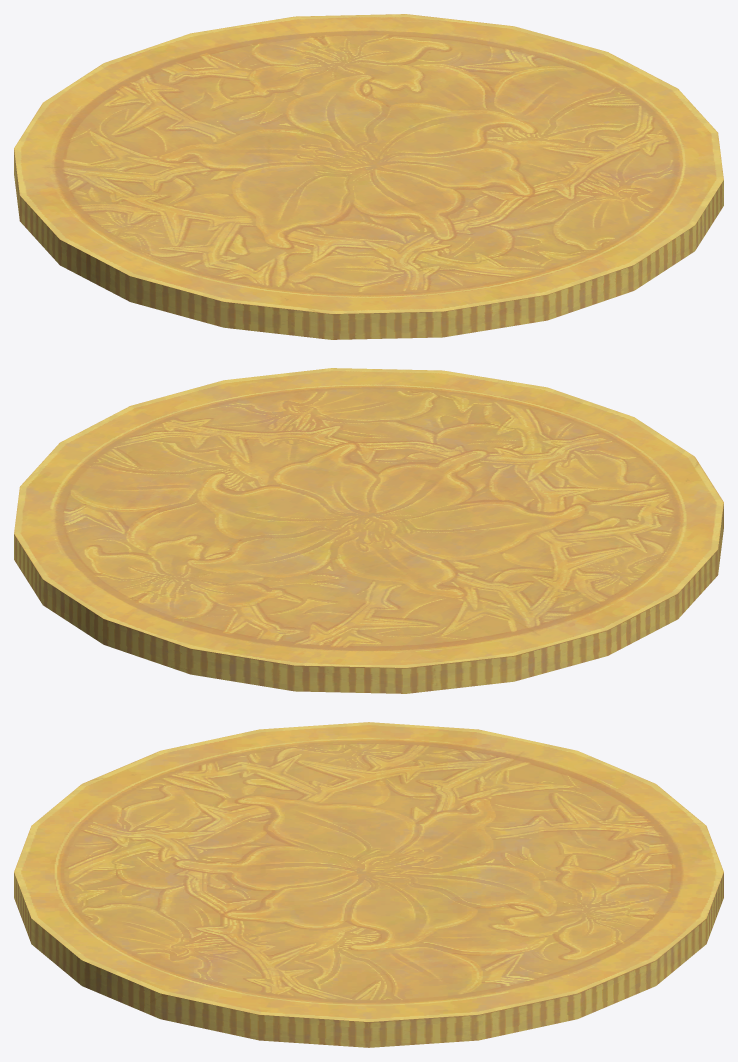
File: Red Nightshade - Coin 03.glb
The picture shows the model from 3 angles, top to bottom: view 1: azimuth 30°, elevation 25°; view 2: azimuth 150°, elevation 25°; view 3: azimuth 270°, elevation 25°; orthographic projection.
Parts seen in each view (by area): view 1: Npc_coin_03_LOD0; view 2: Npc_coin_03_LOD0; view 3: Npc_coin_03_LOD0.
Boxes of the visible parts, left/top/right/bottom form: Npc_coin_03_LOD0: left=14, top=14, right=723, bottom=339; Npc_coin_03_LOD0: left=14, top=368, right=723, bottom=693; Npc_coin_03_LOD0: left=14, top=722, right=723, bottom=1047.
Size of the model in its own units: 0.0499 by 0.00199 by 0.0499.
1 material, 1 textured.
